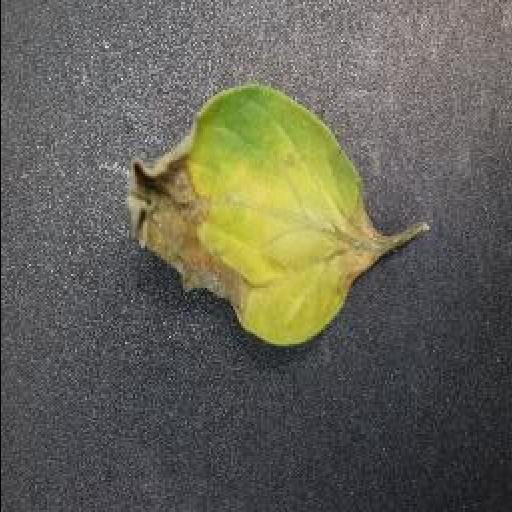disease_tomato: (116, 88, 372, 350)
